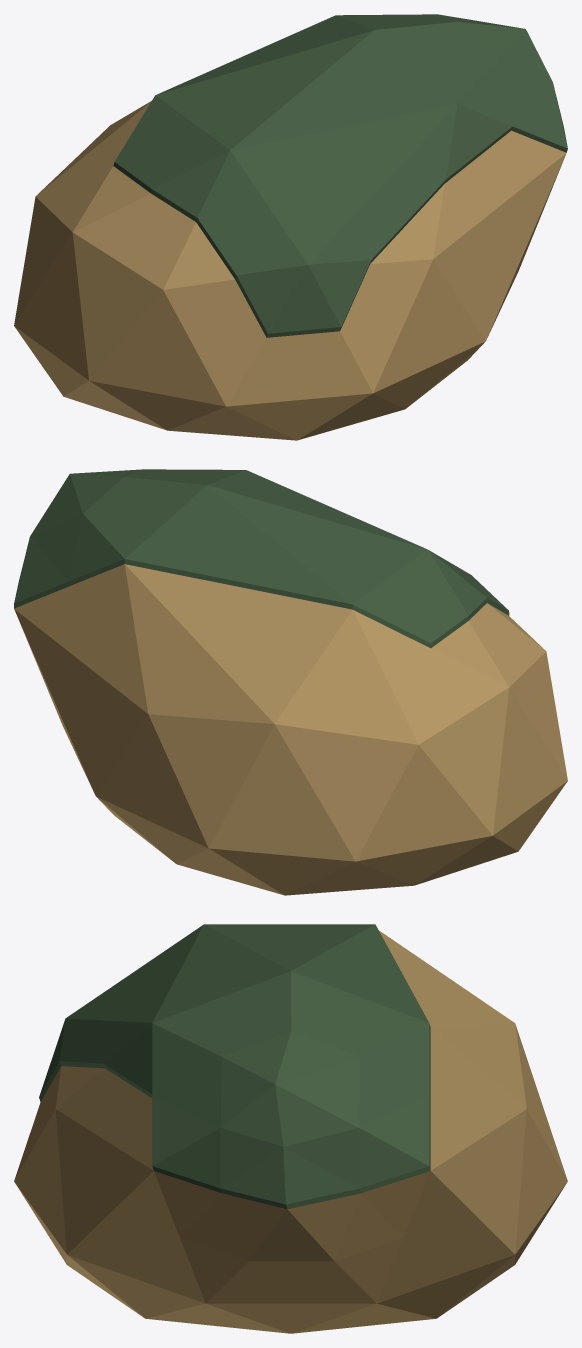
The model's file is MossStone.fbx.
3 views of the same model, one above another, from view 1: azimuth 30°, elevation 25°; view 2: azimuth 150°, elevation 25°; view 3: azimuth 270°, elevation 25° (orthographic). The views are drawn at different scales.
Visible parts, largest first — view 1: MossStone; view 2: MossStone; view 3: MossStone.
Part boxes in pixels (left/top/right/bottom): MossStone: left=14, top=14, right=567, bottom=440; MossStone: left=14, top=469, right=567, bottom=895; MossStone: left=14, top=924, right=567, bottom=1333.
Bounding box in the file's own units: 1086 × 604 × 913.
